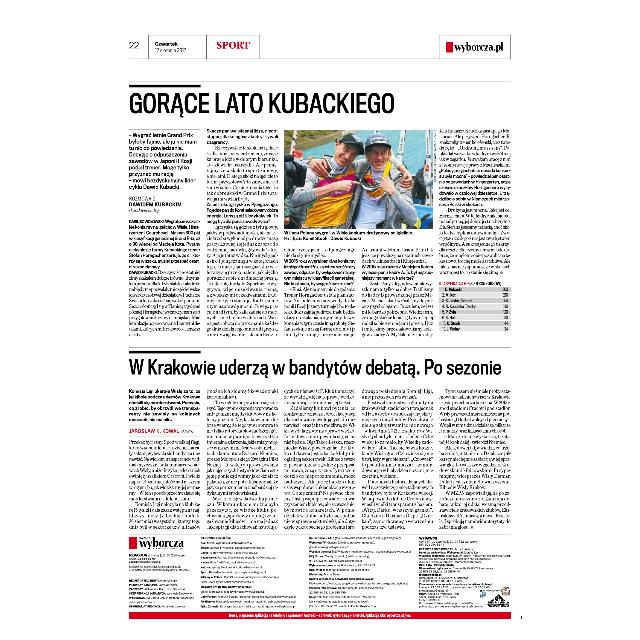article: (127, 80, 516, 342), (126, 348, 514, 532)
